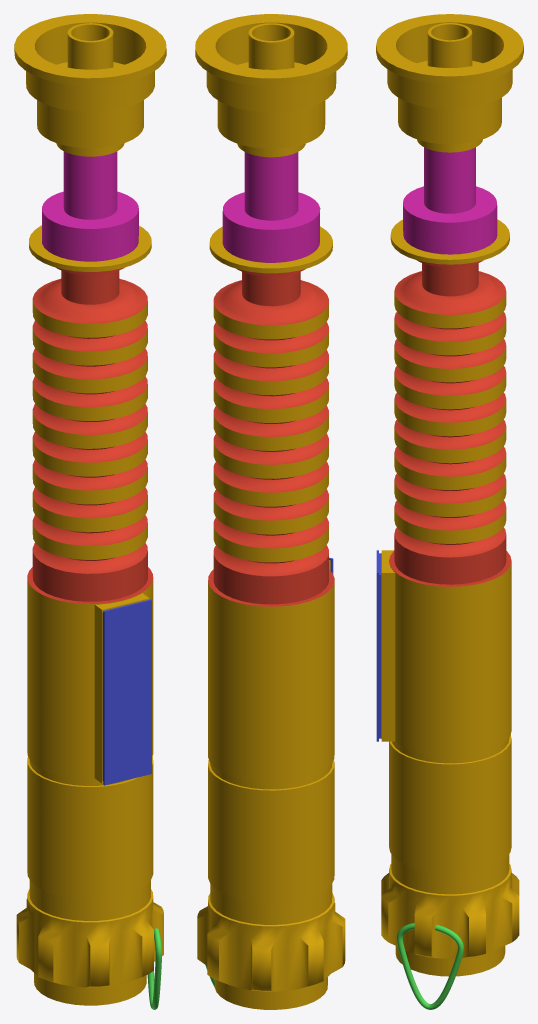
The model's file is Lightsaber Luke.fbx.
3 views of the same model, side by side, from view 1: azimuth 30°, elevation 25°; view 2: azimuth 150°, elevation 25°; view 3: azimuth 270°, elevation 25° (orthographic). The views are drawn at different scales.
Parts seen in each view (by area): view 1: Hilt; view 2: Hilt; view 3: Hilt.
Part boxes in pixels (x1,y1,x2,y2): Hilt: (14, 14, 166, 1009); Hilt: (195, 14, 347, 1009); Hilt: (376, 14, 523, 1009).
Size of the model in its own units: 0.0425 by 0.3007 by 0.0423.
